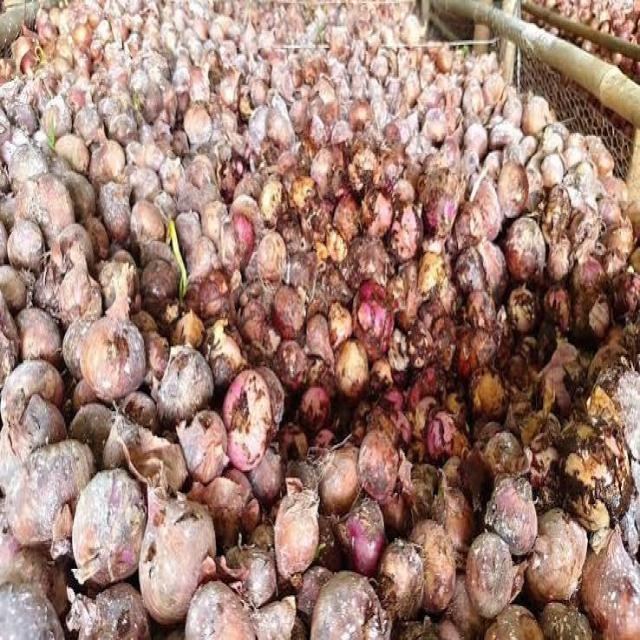mechanical_damage: (80, 296, 234, 486), (458, 319, 522, 412)
rotten: (288, 201, 393, 312), (556, 408, 624, 492)
